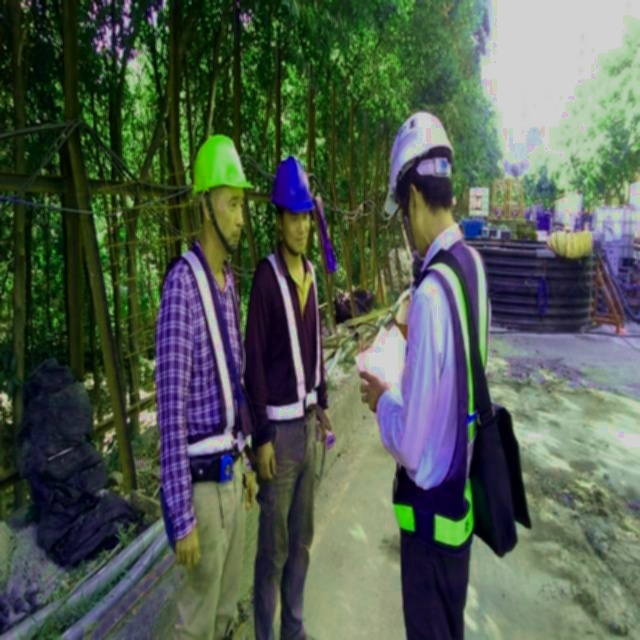Con_Casco: (195, 133, 245, 246), (275, 153, 314, 254)
Con_Chaleco: (391, 249, 497, 537), (253, 242, 331, 423)
